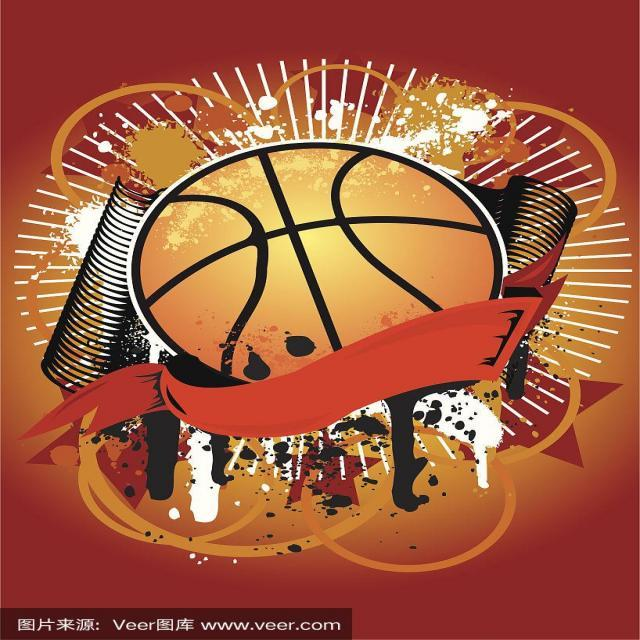rim: (137, 144, 504, 387)
